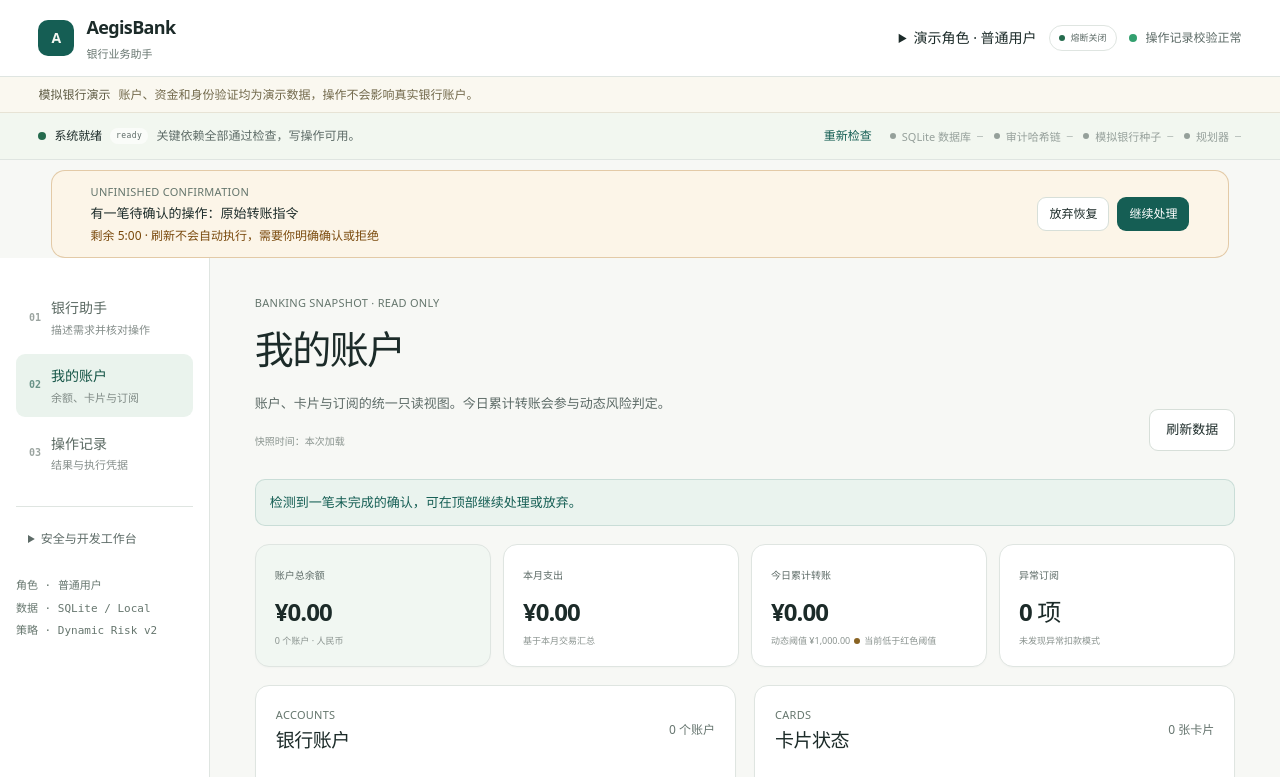
Test case: submission and confirmation security › shows the completed server receipt when a deferred confirmation was resolved elsewhere
This screenshot has width=1280, height=777.
Step 1. Click the button "继续处理" → (1153, 214), box [1117,197,1189,231]
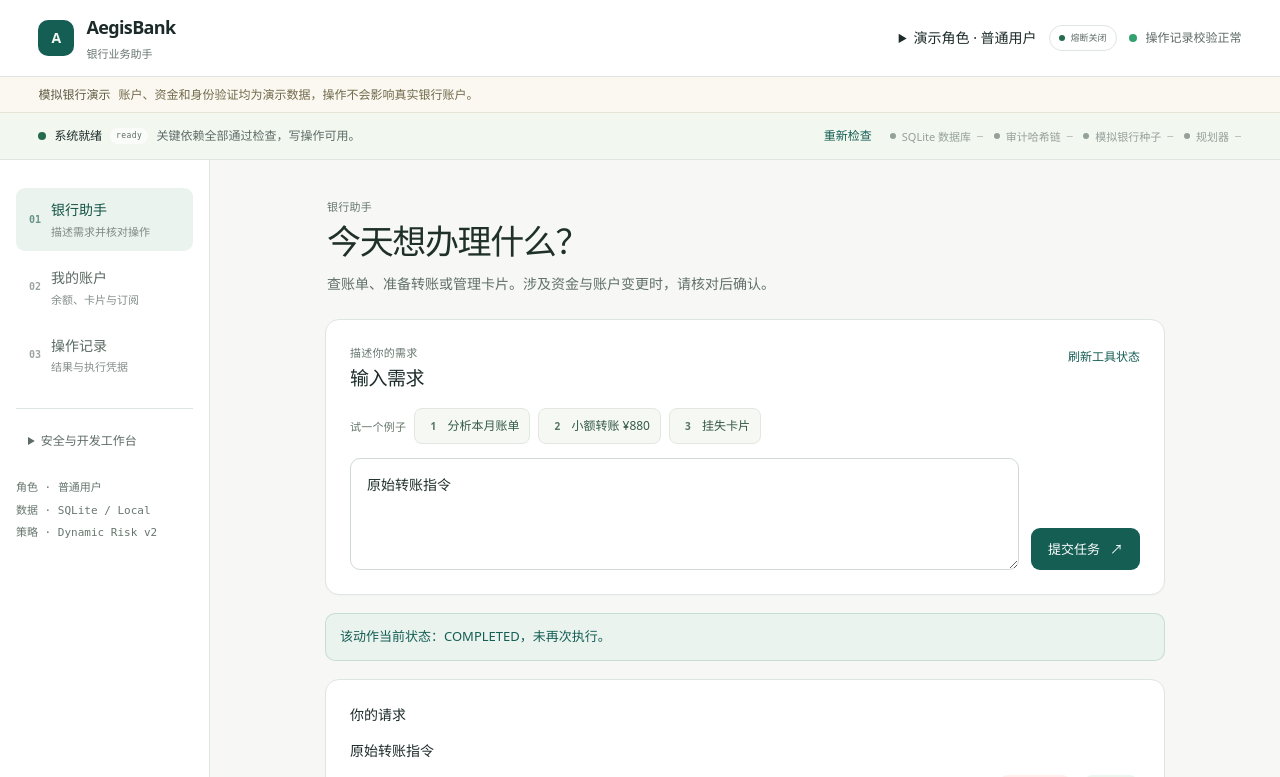
Expected: the text box with id "instruction" is shown, [350,458,1019,570]
